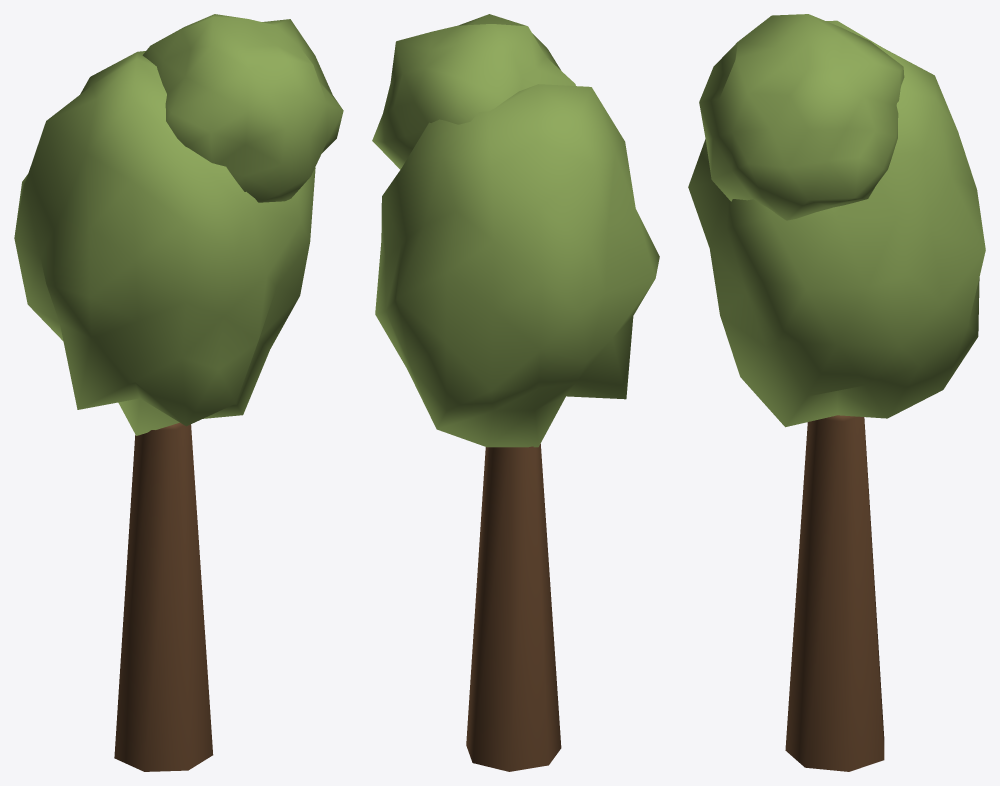
File: birch-tree.glb
3 views of the same model, side by side, from view 1: azimuth 30°, elevation 25°; view 2: azimuth 150°, elevation 25°; view 3: azimuth 270°, elevation 25° (orthographic). The views are drawn at different scales.
Parts seen in each view (by area): view 1: birch, trunk; view 2: birch, trunk; view 3: birch, trunk.
Part boxes in pixels (left/top/right/bottom): birch: left=14, top=14, right=343, bottom=435; trunk: left=114, top=422, right=213, bottom=771; birch: left=372, top=14, right=659, bottom=447; trunk: left=466, top=443, right=561, bottom=771; birch: left=688, top=14, right=985, bottom=427; trunk: left=785, top=415, right=884, bottom=771.
Bounding box in the file's own units: 0.227 × 0.5756 × 0.2058.
